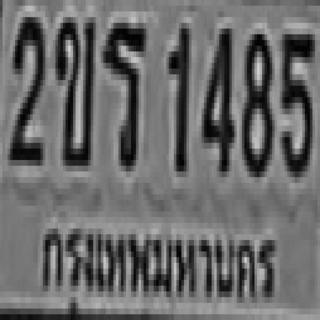A02: (53, 11, 93, 160)
A35: (101, 17, 144, 166)
N01: (166, 20, 187, 168)
N02: (8, 11, 43, 160)
N04: (199, 23, 232, 172)
N05: (280, 29, 312, 171)
N08: (239, 29, 270, 171)
P04: (34, 209, 282, 320)
